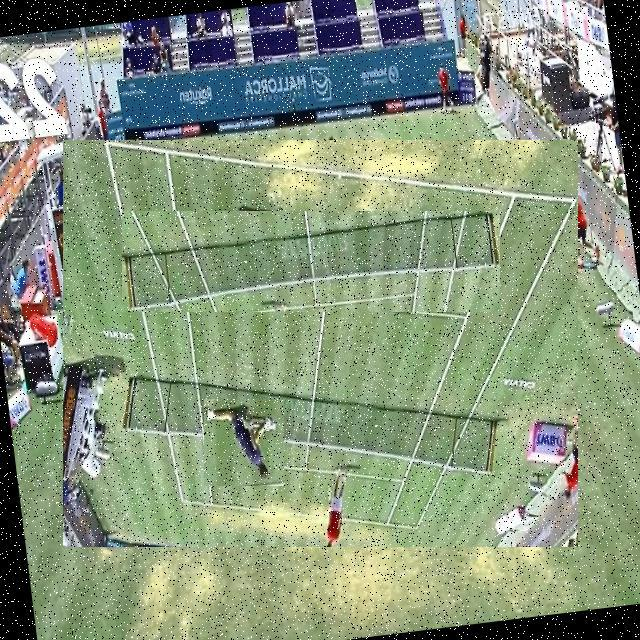court: (63, 140, 580, 547)
net: (124, 211, 502, 312)
player: (205, 400, 284, 488)
